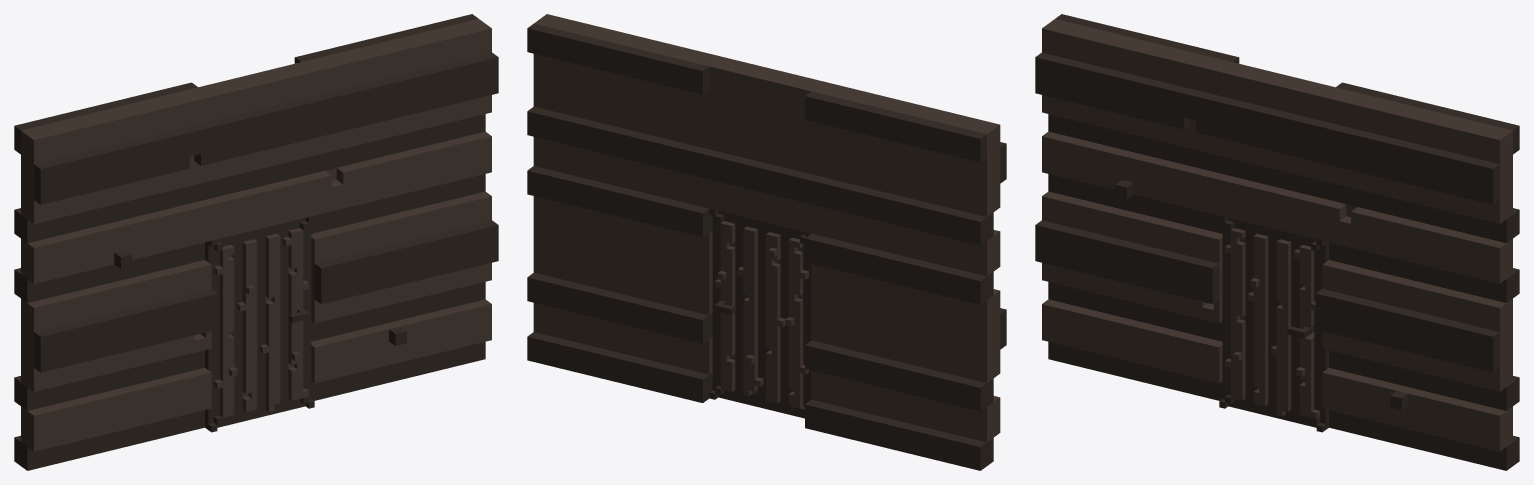
File: WallDoor.obj
The picture shows the model from 3 angles, left to right: view 1: azimuth 30°, elevation 25°; view 2: azimuth 150°, elevation 25°; view 3: azimuth 330°, elevation 25°; orthographic projection.
Size of the model in its own units: 8 by 5.6 by 0.8.
1 material, 1 textured.
